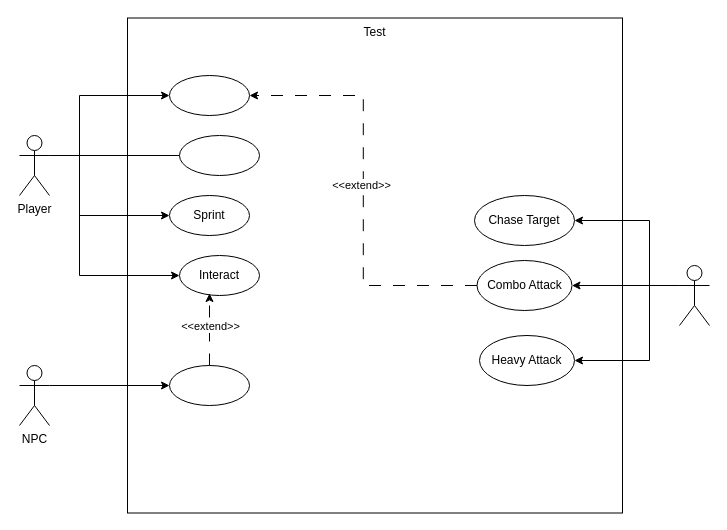
This 727x530 diagram has some shape labels left out. Here are the shapes that lost their labels. From the top down, the box of each, then its label:
(168, 74, 250, 116): Attack
(178, 134, 260, 176): Dodge
(678, 264, 710, 326): Boss
(168, 364, 250, 406): Dialog Box
